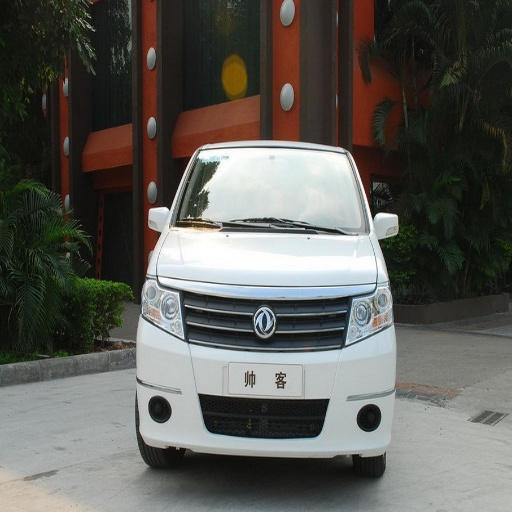front_bumper: (139, 278, 396, 450)
front_right_light: (142, 275, 184, 338)
hood: (158, 227, 377, 288)
